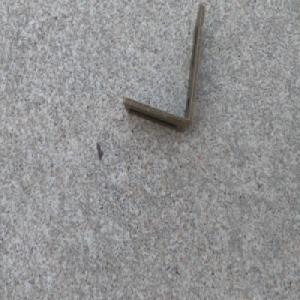MetalPart: (122, 2, 207, 133)
